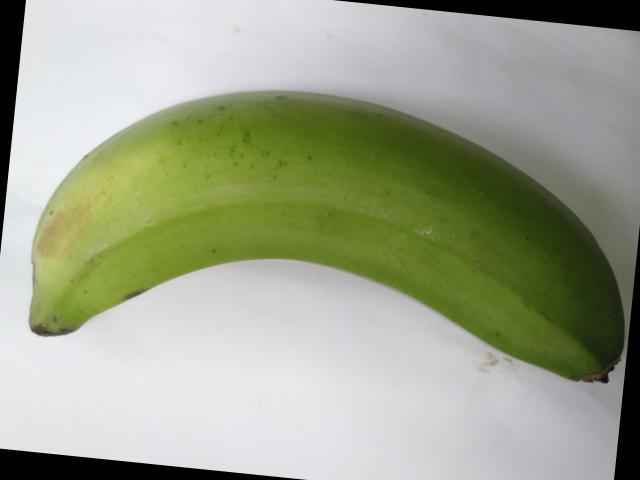freshunripe: (15, 84, 638, 387)
